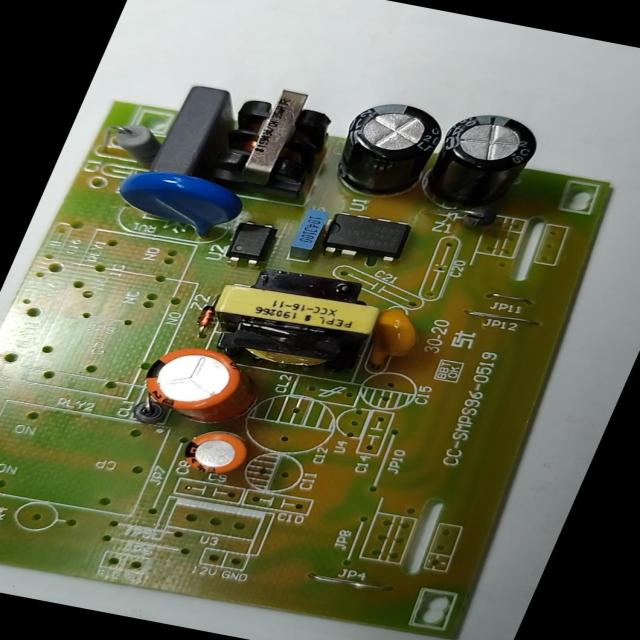Cap1: (130, 340, 264, 430)
Cap2: (175, 424, 254, 479)
Cap3: (320, 94, 452, 205)
Cap4: (418, 106, 548, 217), (103, 117, 164, 162)
MOSFET: (314, 207, 414, 266)
Mov: (103, 163, 252, 242)
Transformer: (200, 260, 390, 380), (204, 78, 347, 198)
